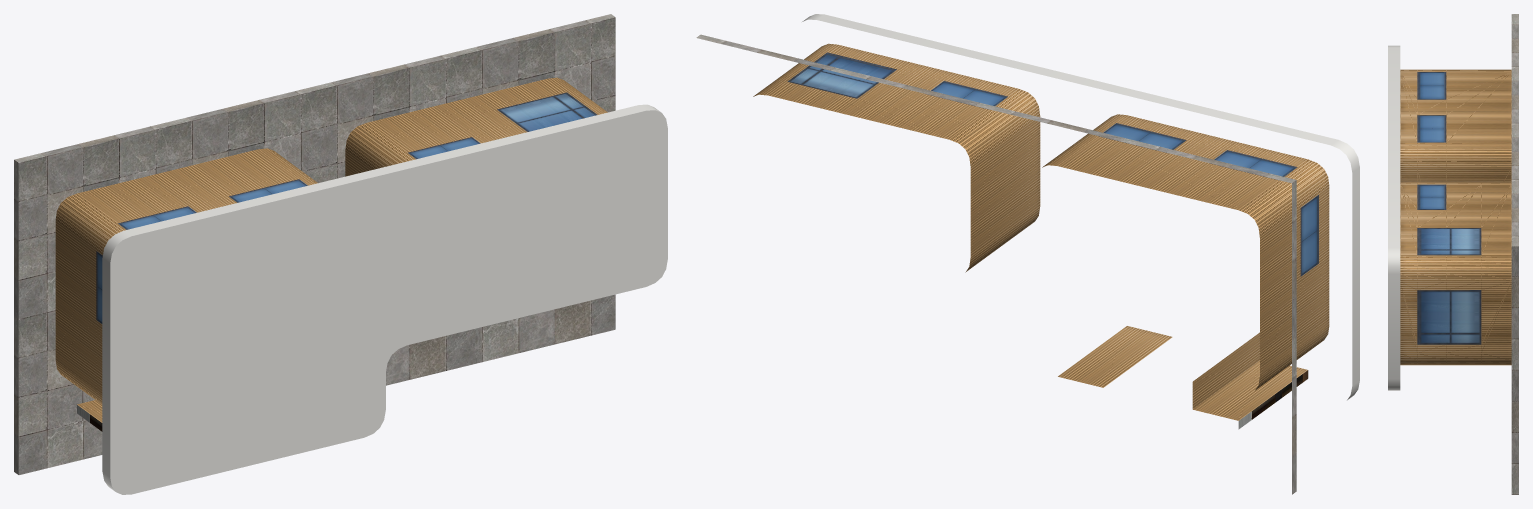
The model's file is sgy_ydhj_06.gltf.
3 views of the same model, side by side, from view 1: azimuth 30°, elevation 25°; view 2: azimuth 150°, elevation 25°; view 3: azimuth 270°, elevation 25° (orthographic). The views are drawn at different scales.
Visible parts, largest first — view 1: Plane001; view 2: Plane001; view 3: Plane001.
Boxes of the visible parts, box(x1,y1,x2,y2) form: Plane001: box(14, 14, 667, 494); Plane001: box(696, 14, 1359, 494); Plane001: box(1388, 14, 1518, 494).
Size of the model in its own units: 14.01 by 7 by 3.34.
5 materials, 5 textured.
